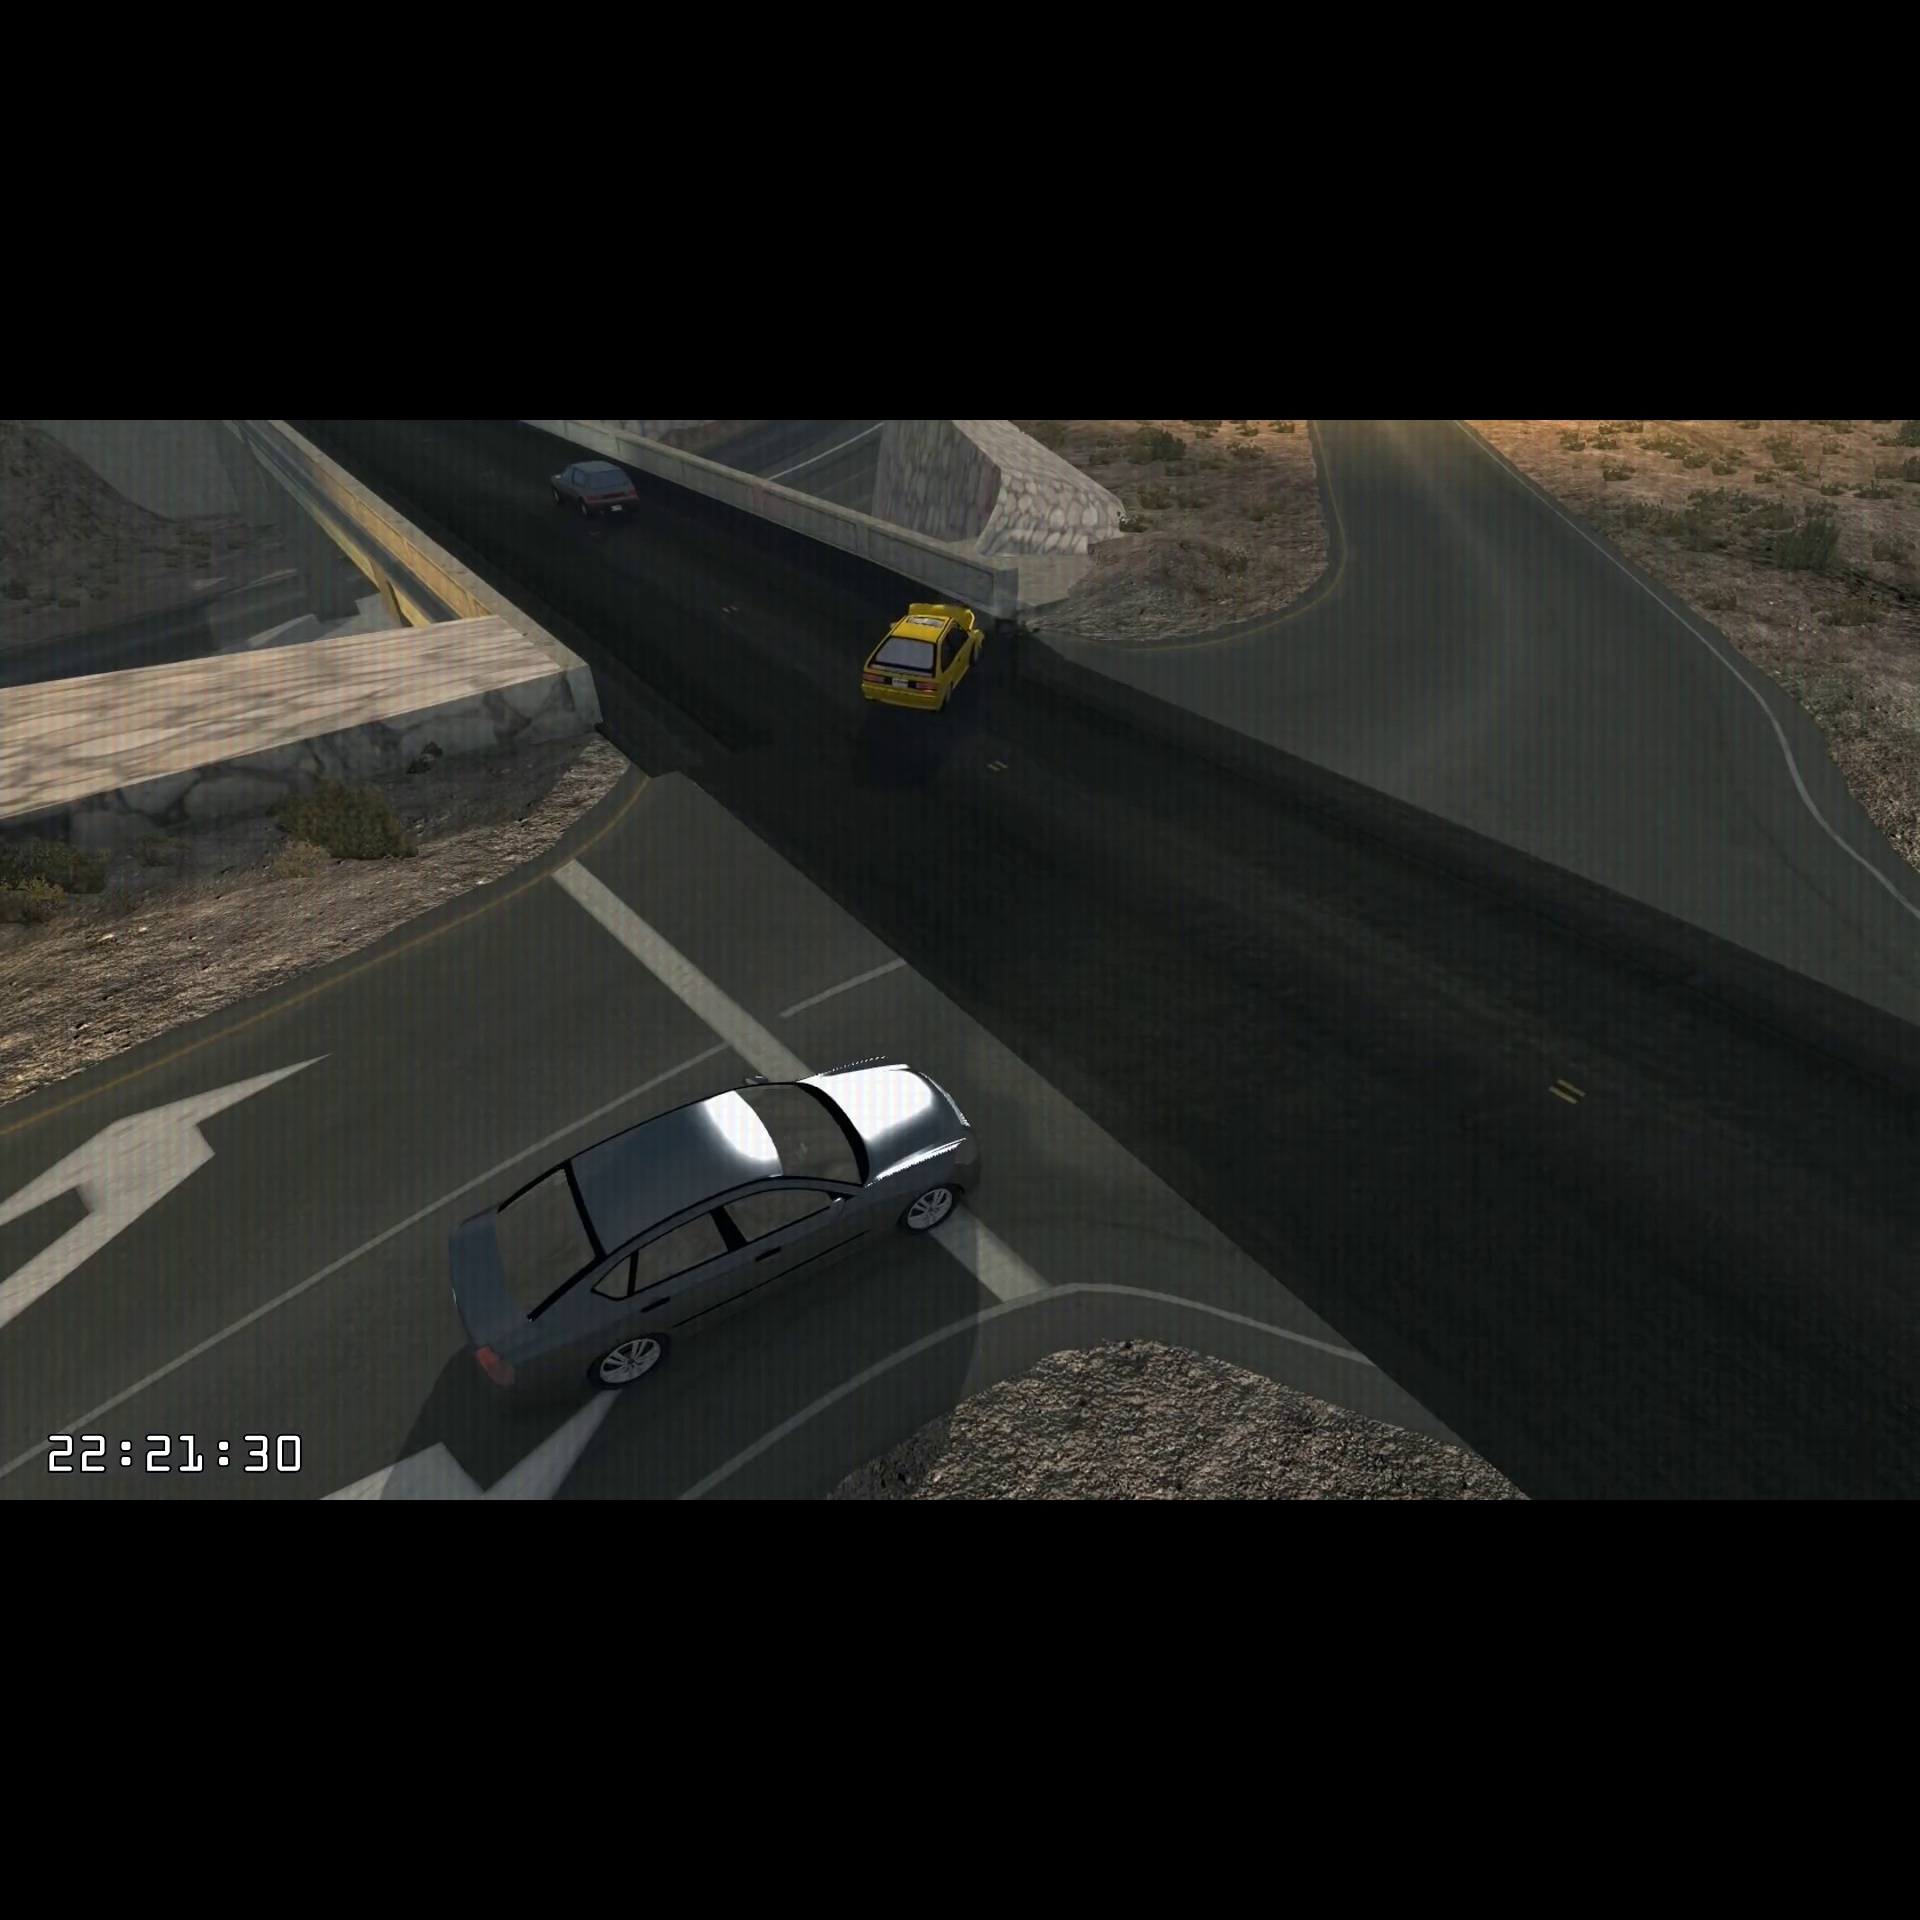vehicle: (434, 1048, 986, 1417), (855, 594, 992, 723), (542, 457, 642, 522)
